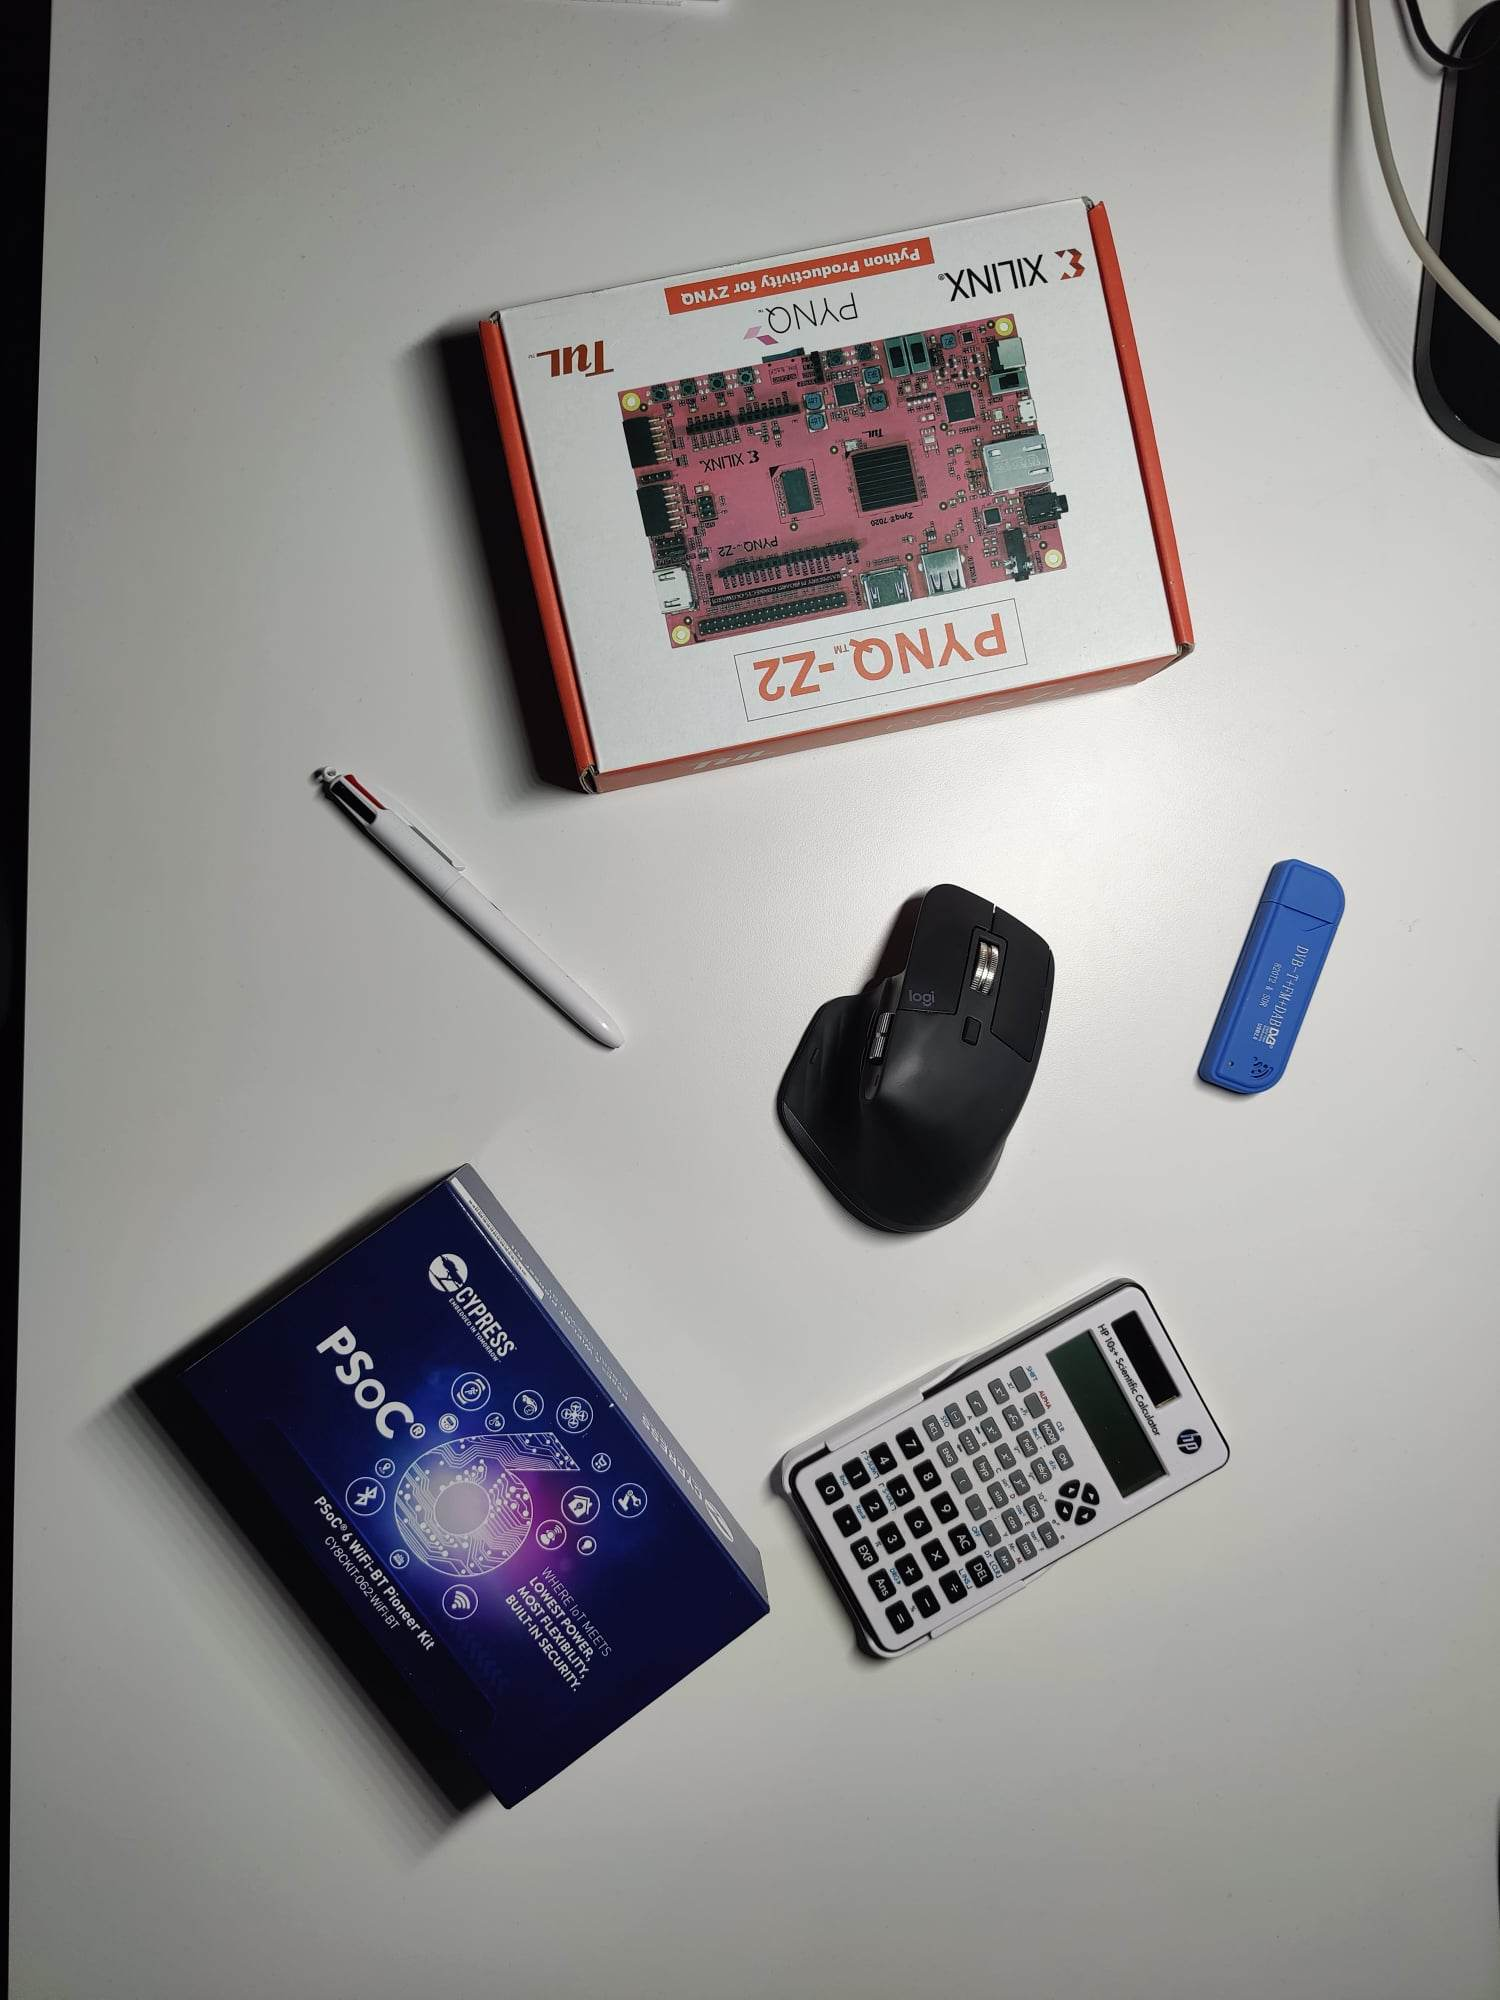DVB: (1186, 816, 1361, 1118)
Muis: (759, 843, 1071, 1254)
PSoC_6: (109, 1150, 775, 1825)
PYNQ doos: (454, 172, 1231, 809)
Pen: (287, 756, 646, 1068)
Rekenmachine: (770, 1261, 1253, 1676)
